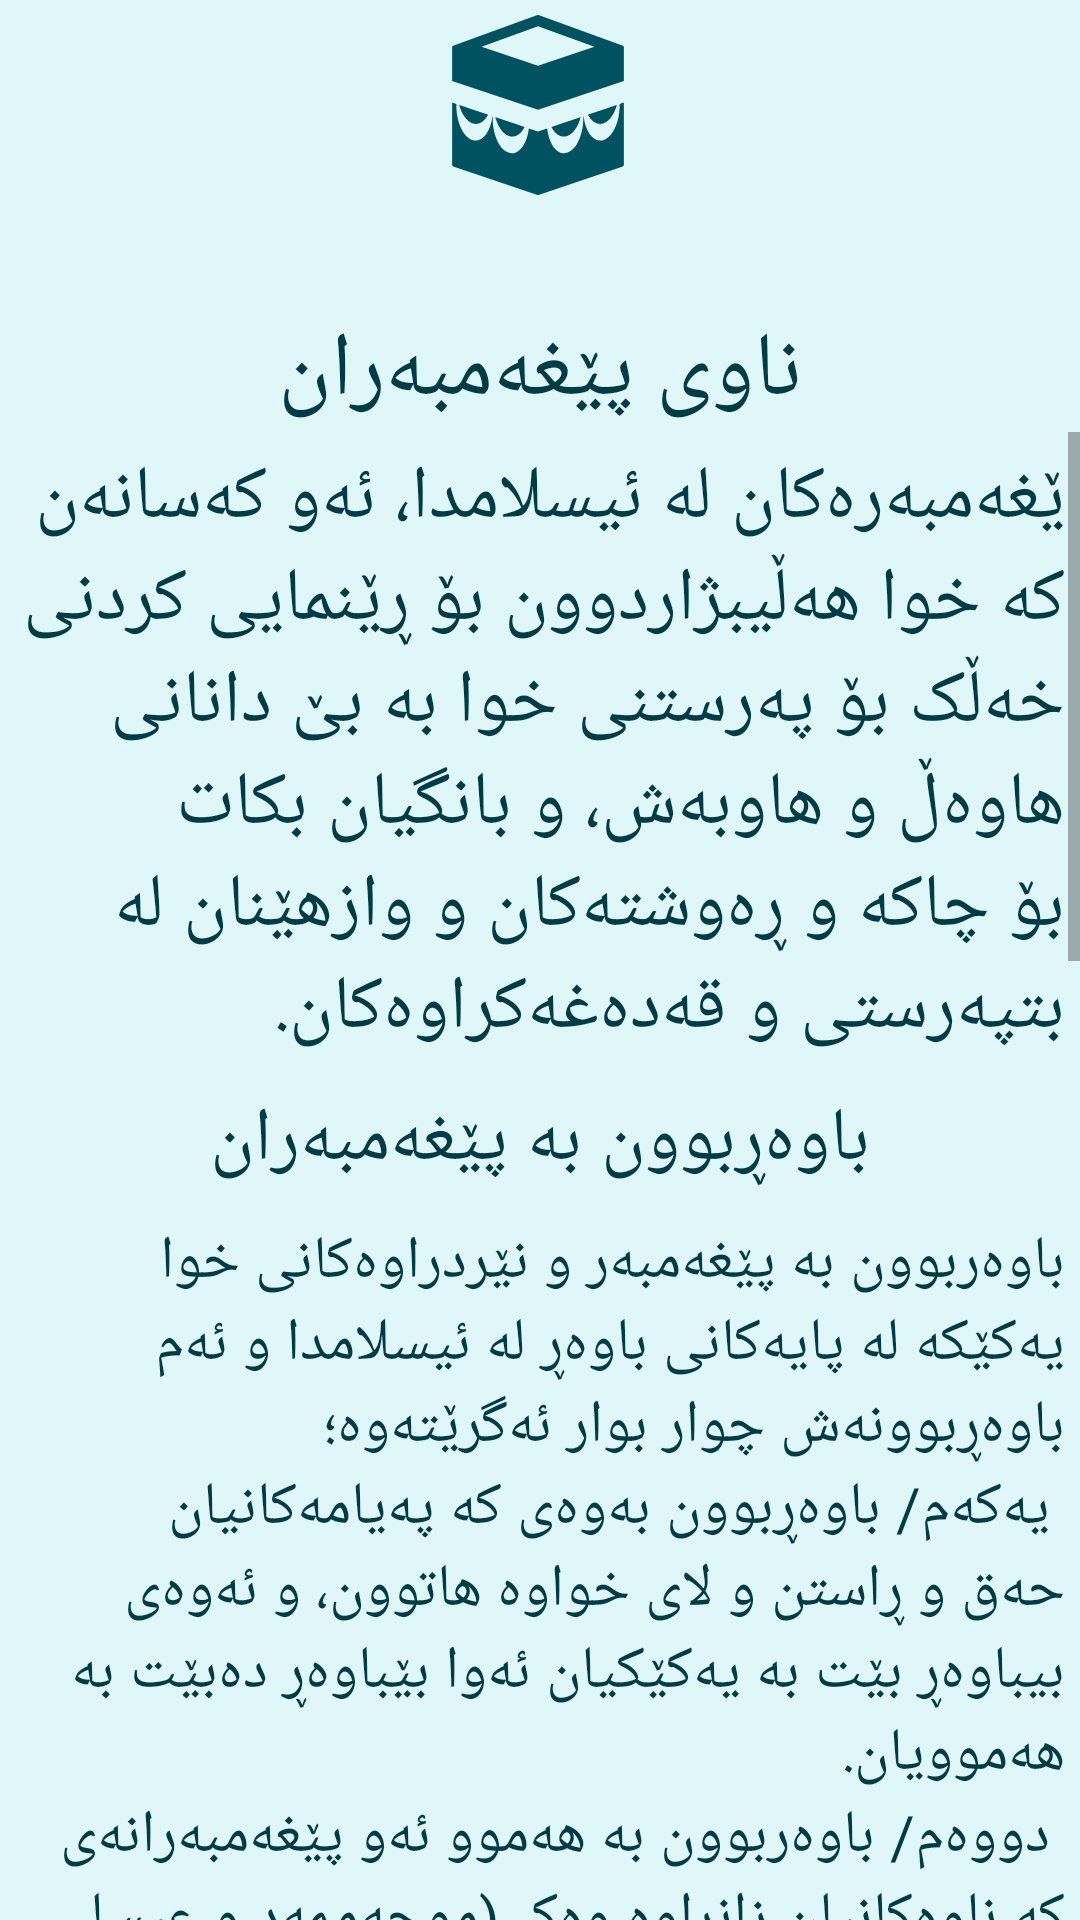

Icon click points for this 1080px×1920px phone screenshot, format (x,y):
kaaba mecca: (538,105)
